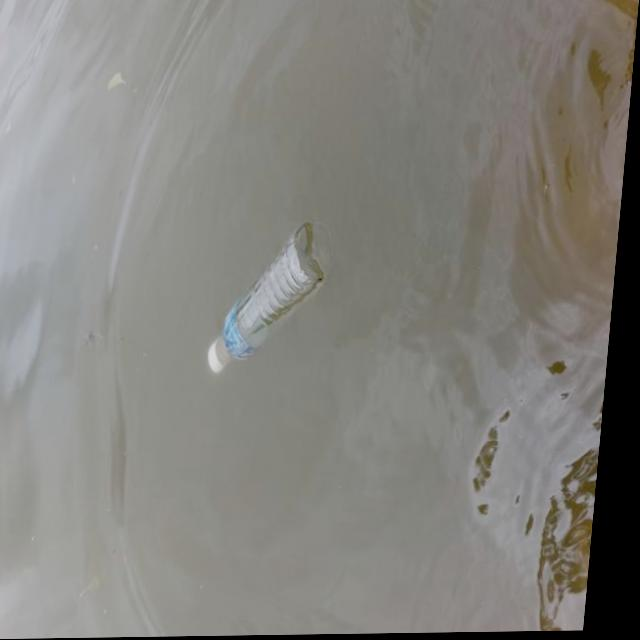waterbottle: (186, 179, 372, 437)
